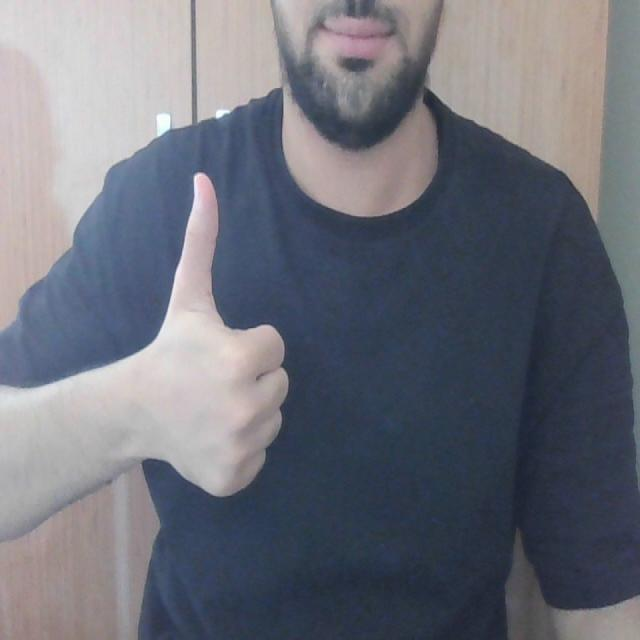Tamam: (140, 166, 296, 504)
